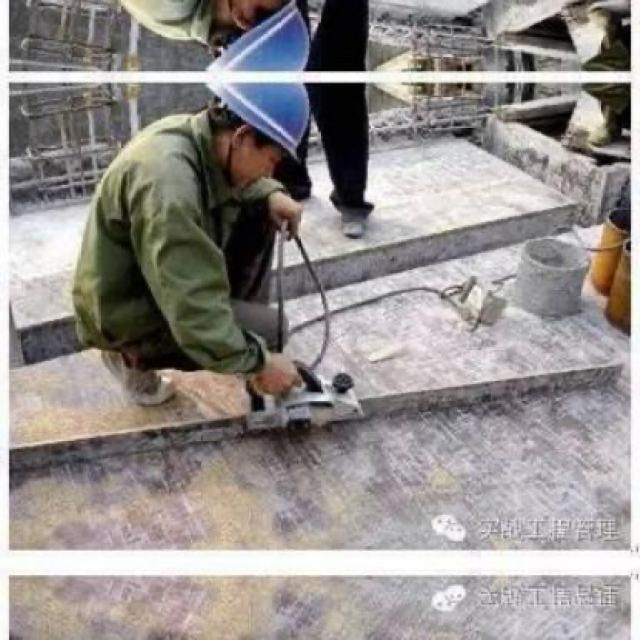helmet: (197, 78, 325, 190), (196, 0, 324, 77)
